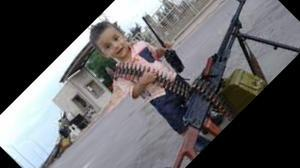larga: (173, 0, 300, 168)
